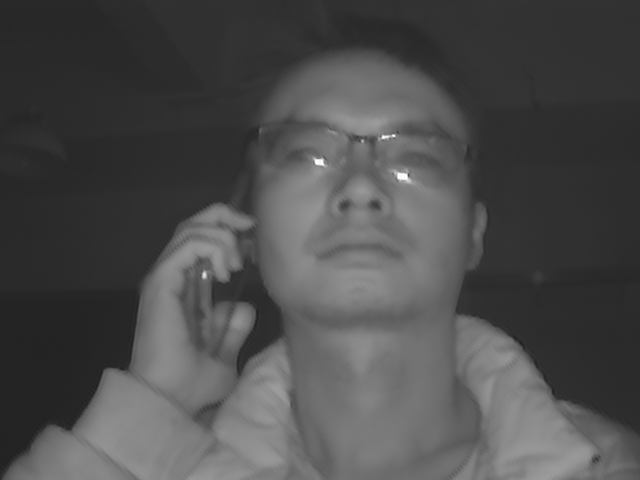hand: (125, 200, 259, 404)
